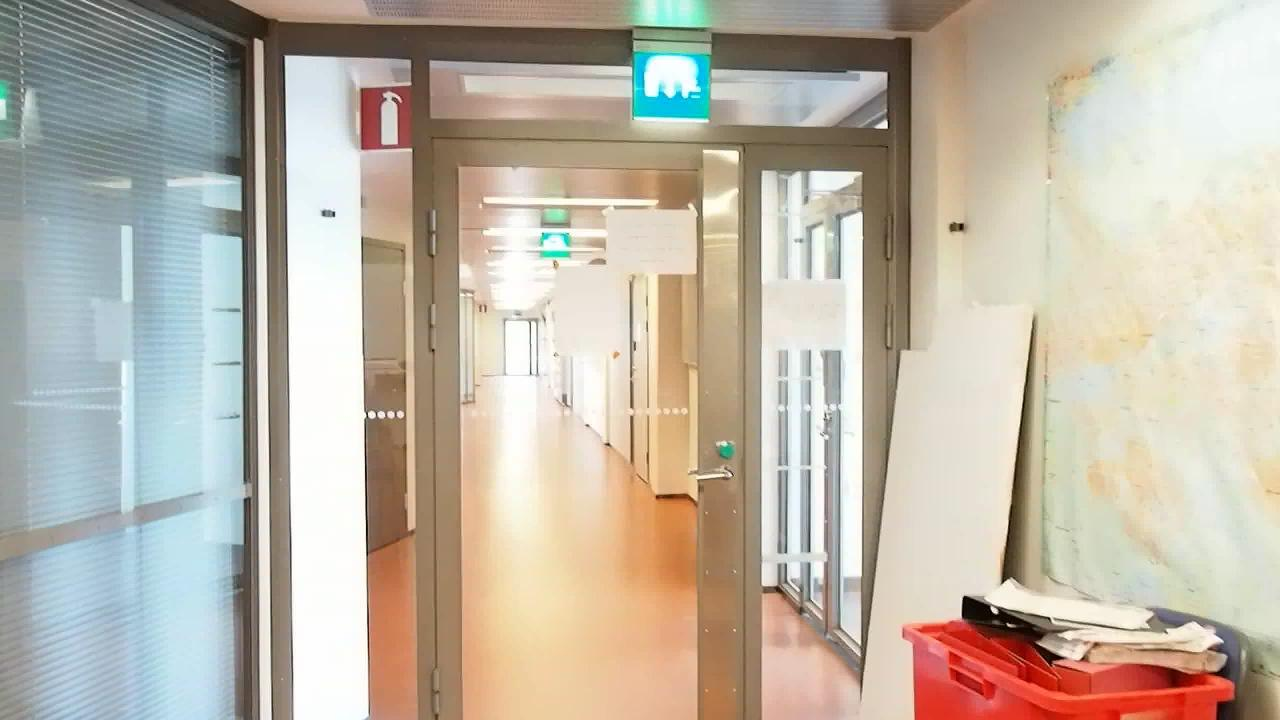exit: (629, 47, 711, 123)
fireextinguisher: (359, 80, 410, 145)
